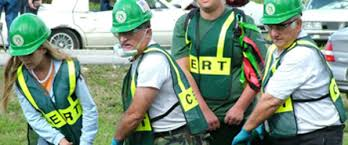Person_wearing_helmet: (5, 9, 54, 56), (107, 0, 151, 40), (257, 0, 309, 33)
